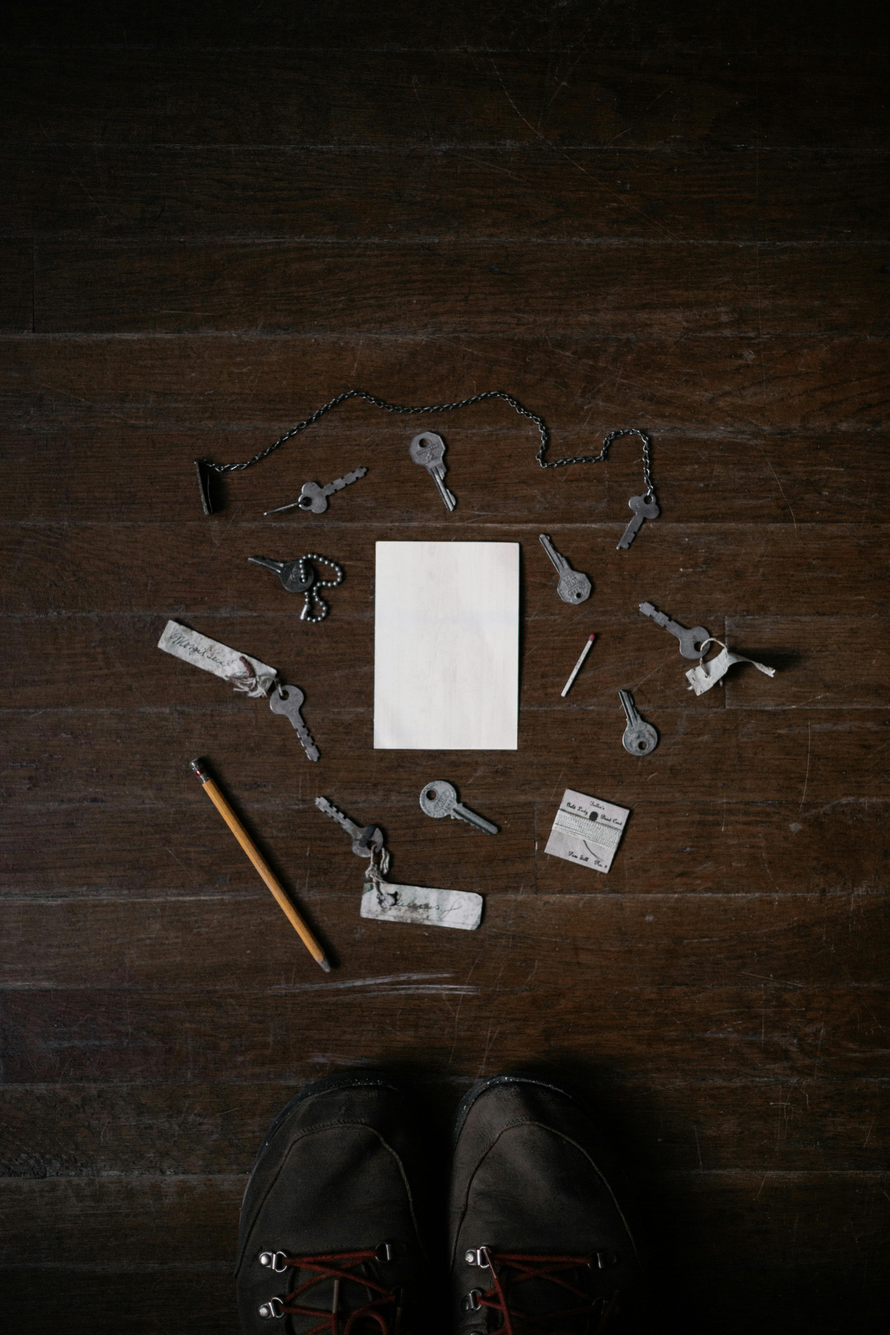paper: (373, 540, 520, 750)
